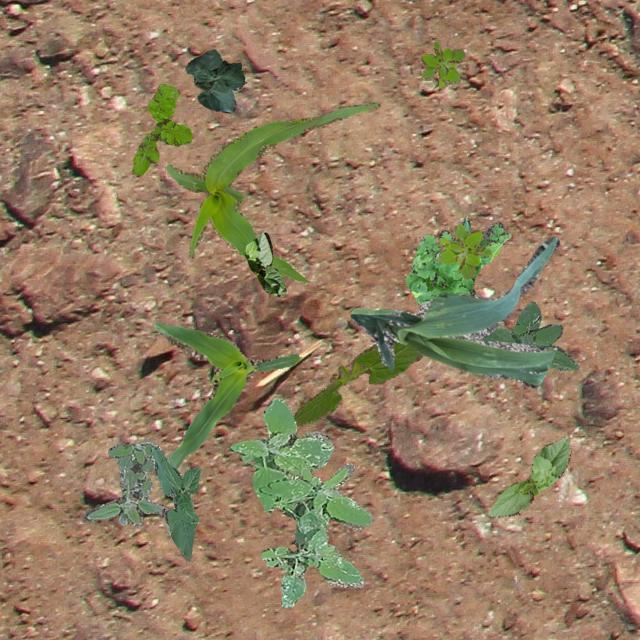crop: (164, 100, 380, 284), (350, 236, 558, 386), (153, 320, 300, 468), (292, 340, 420, 424), (486, 433, 570, 518), (150, 446, 200, 560), (184, 48, 243, 112), (243, 232, 286, 296)
weed: (230, 397, 374, 608), (404, 216, 510, 304), (84, 439, 165, 526), (478, 300, 578, 370), (130, 82, 190, 176), (436, 222, 489, 278), (419, 41, 464, 88), (274, 464, 320, 506)
